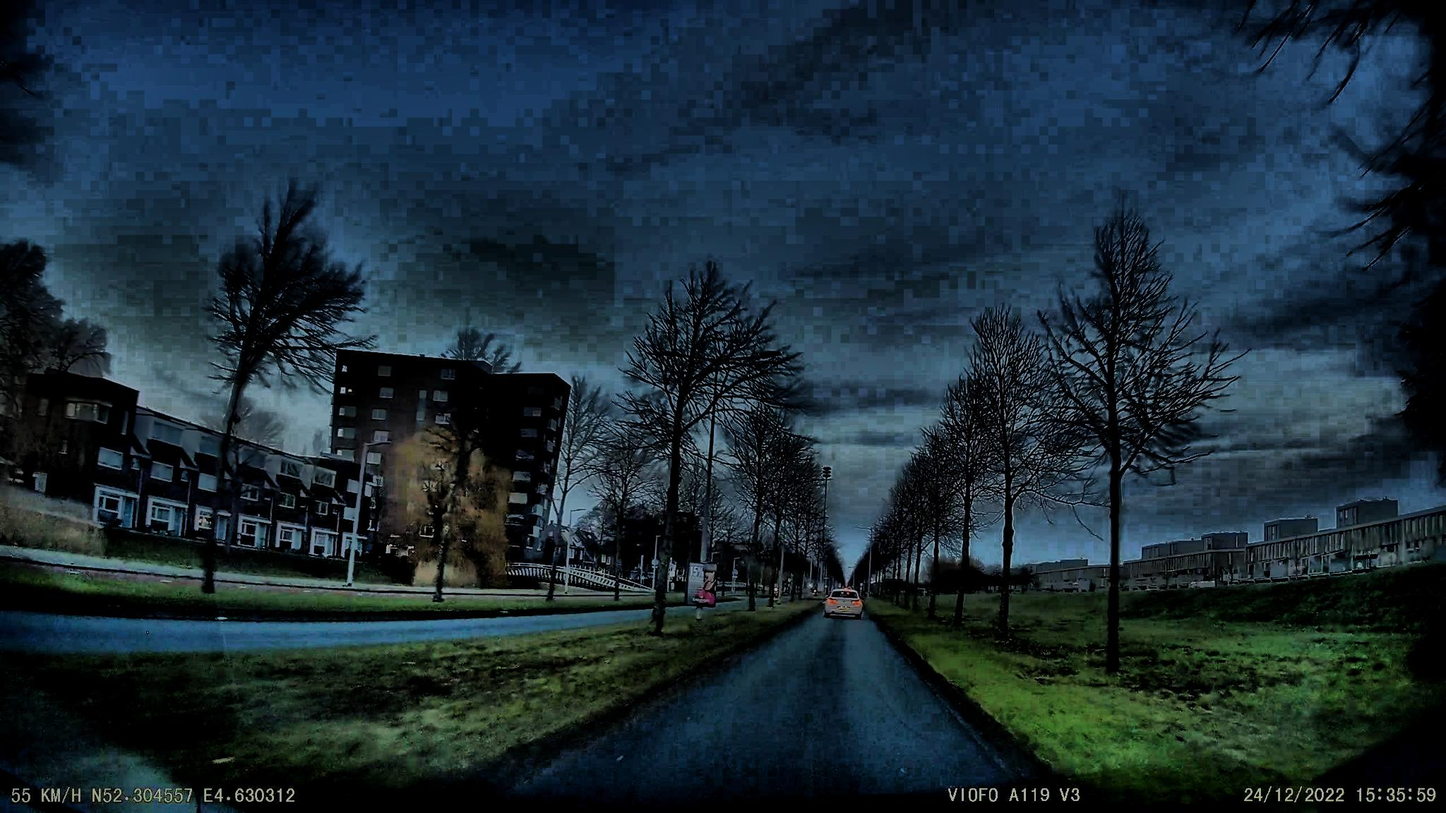Roads: (481, 613, 1083, 813)
